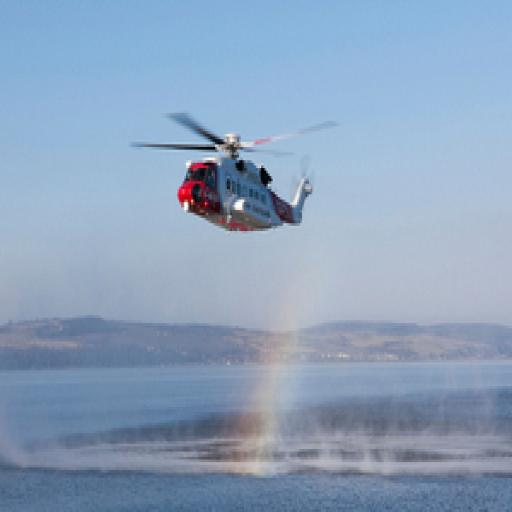helicopter: (161, 96, 344, 253)
